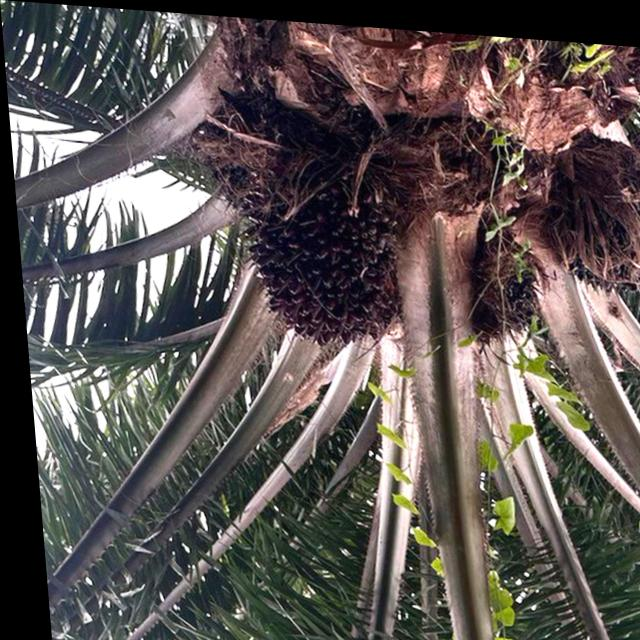ripe: (240, 201, 410, 349)
